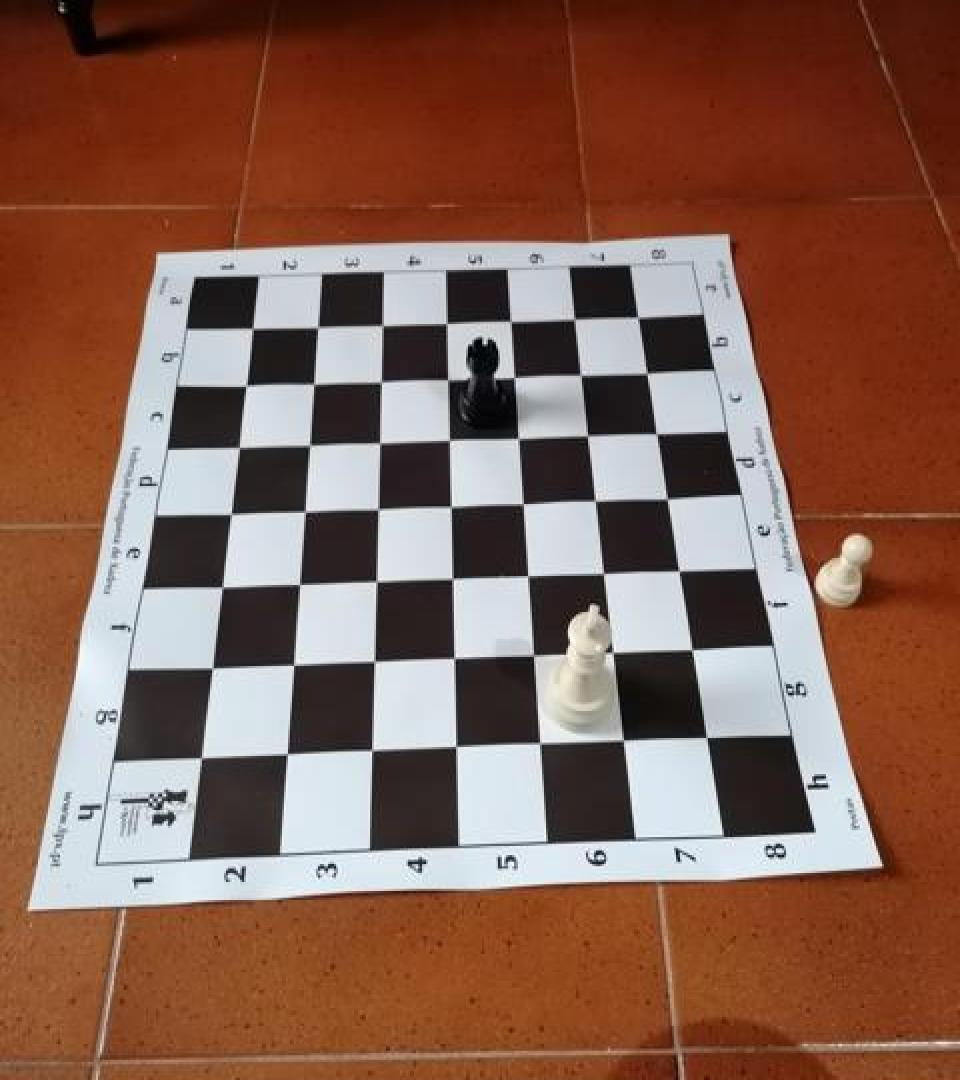xcorner: (626, 299, 656, 333), (498, 304, 528, 338), (433, 306, 463, 340), (368, 308, 398, 342), (239, 314, 269, 348), (635, 354, 665, 388), (568, 358, 598, 392), (501, 360, 531, 394), (434, 362, 464, 396), (367, 364, 397, 398), (299, 368, 329, 402), (232, 370, 262, 404), (645, 415, 675, 449), (576, 417, 606, 451), (436, 423, 466, 457), (365, 426, 395, 460), (295, 428, 325, 462), (224, 432, 254, 466), (656, 482, 686, 516), (584, 484, 614, 518), (511, 487, 541, 521), (437, 489, 467, 523), (290, 496, 320, 530), (216, 498, 246, 532), (668, 554, 698, 588), (592, 556, 622, 590), (516, 559, 546, 593), (439, 562, 469, 596), (362, 566, 392, 600), (285, 569, 315, 603), (207, 572, 237, 606), (682, 632, 712, 666), (521, 639, 551, 673), (441, 642, 471, 676), (360, 647, 390, 681), (279, 650, 309, 684), (197, 654, 227, 688), (696, 720, 726, 754), (612, 723, 642, 757), (528, 728, 558, 762), (443, 731, 473, 765), (358, 736, 388, 770), (272, 739, 302, 773), (186, 744, 216, 778), (562, 302, 592, 335), (304, 311, 334, 344), (506, 421, 536, 454), (364, 493, 394, 526), (602, 636, 632, 669)
